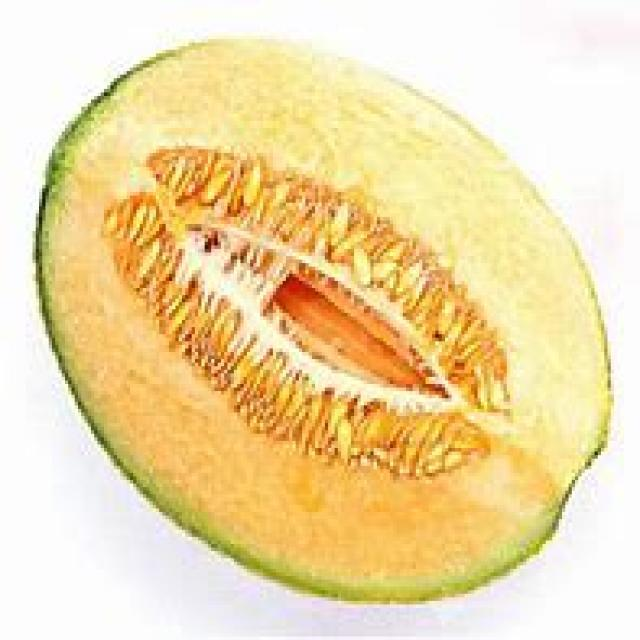Hami Melon: (37, 42, 613, 610)
